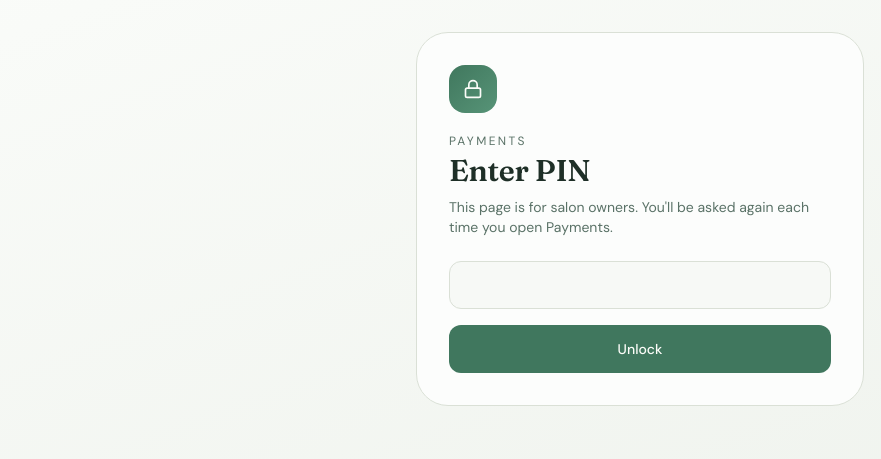
Test: PaymentsPinLock › asks for a PIN before showing payments
The width and height of the screenshot is (881, 459).
Type "0000" into the field named "Payments PIN". click: (640, 285)
box: [449,261,831,309]
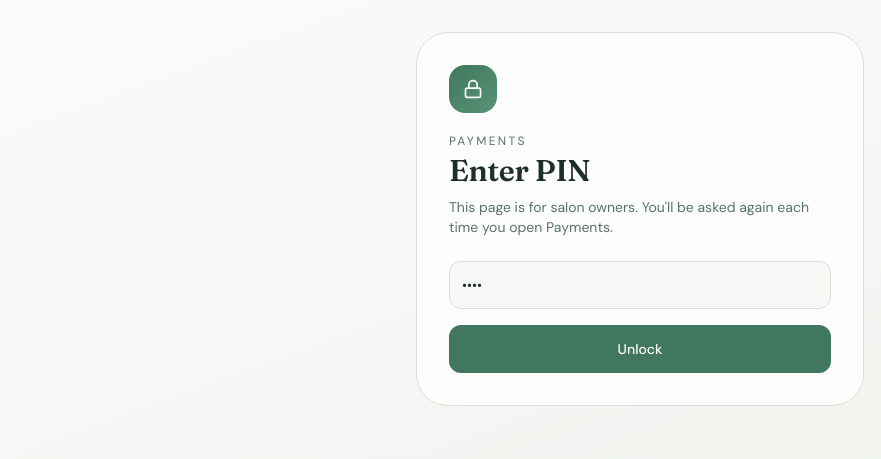
Click the button "Unlock". click: (640, 349)
box: [449,325,831,373]
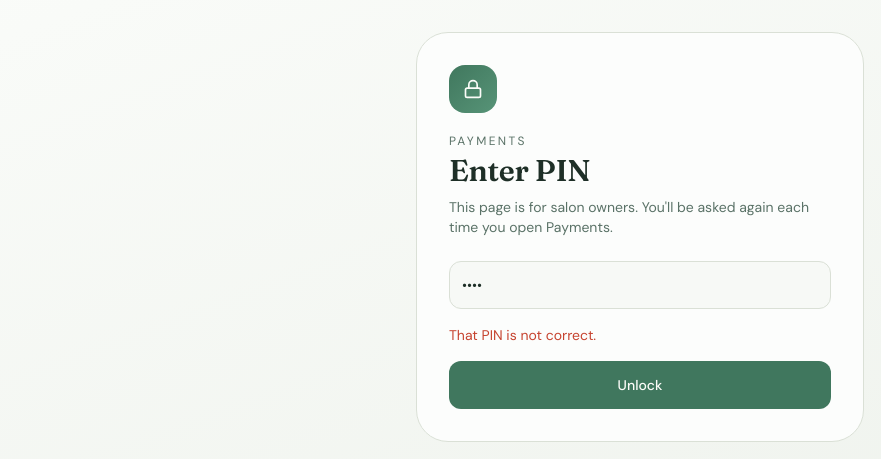
Check: the text "That PIN is not correct." is shown, box [449,326,596,344]
